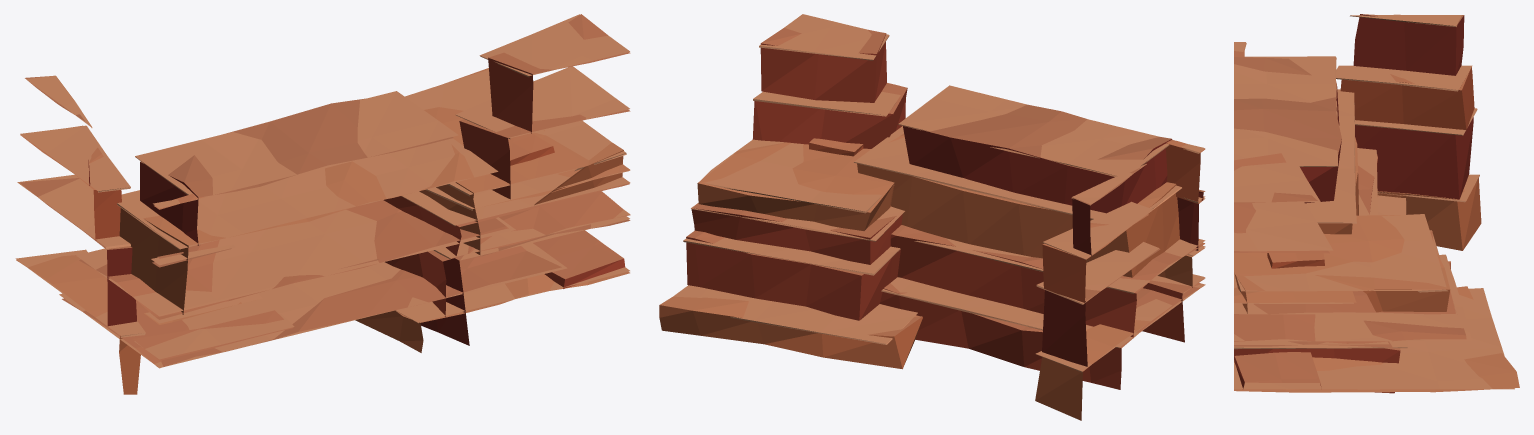
3 renders of one model, left to right at view 1: azimuth 30°, elevation 25°; view 2: azimuth 150°, elevation 25°; view 3: azimuth 270°, elevation 25°, orthographic. The views are drawn at different scales.
Visible parts, largest first — view 1: scene.4.5; view 2: scene.4.5; view 3: scene.4.5.
Part boxes in pixels (box(x1,y1,x2,y2)): scene.4.5: box(15, 14, 630, 394); scene.4.5: box(659, 14, 1205, 420); scene.4.5: box(1234, 14, 1519, 393).
Size of the model in its own units: 62.5 by 32.92 by 38.52.
